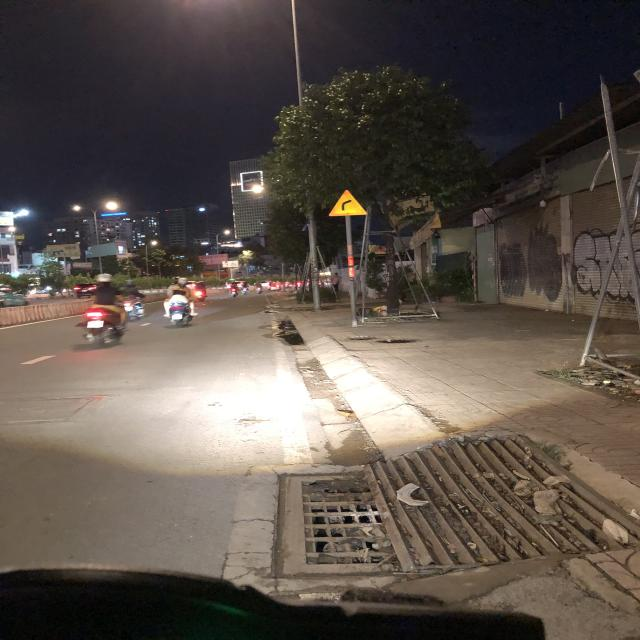Bien bao cho ngoat nguy hiem: (326, 189, 369, 218)
